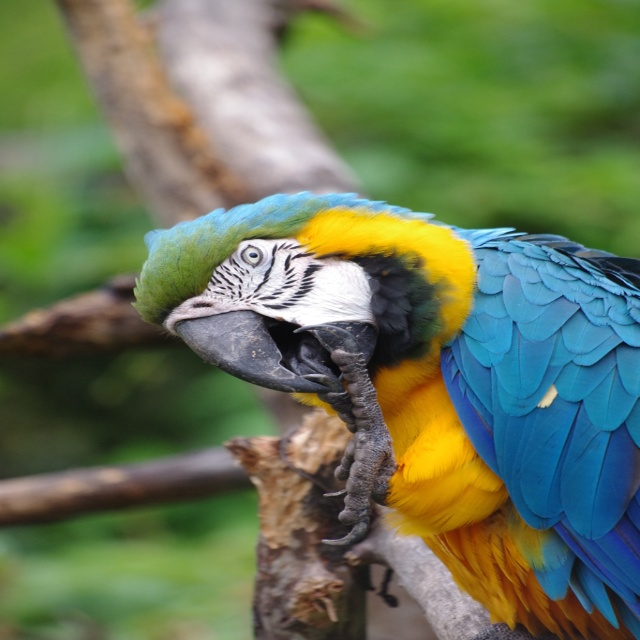Parrot: (127, 184, 639, 639)
